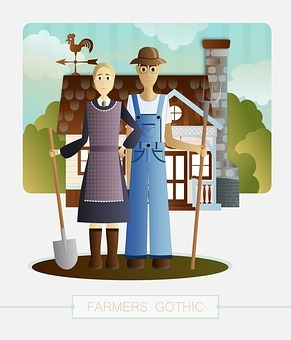person: (115, 43, 181, 271), (64, 54, 128, 271)
